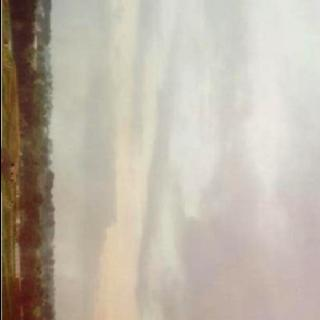Stratus: (64, 0, 320, 320)
